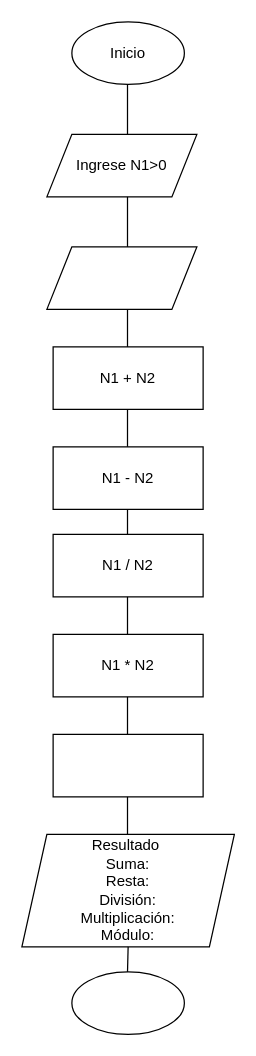
This 256x1056 diagram has some shape labels left out. The shapes that lost their labels are listed below. From the top down, each one's centre as x and y in pixels, then its label:
point 121,277: Ingrese N2>0
point 127,765: N1 % N2
point 127,1002: Fin
